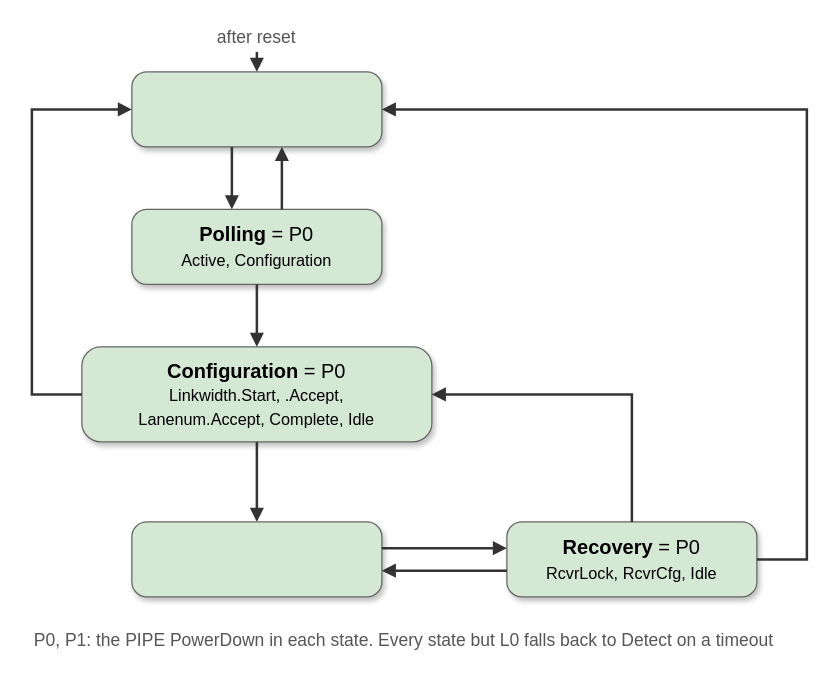
This 839x680 diagram has some shape labels left out. The centre of each missing label's shape, as x and y in pixels:
"Detect = P1 Quiet, Active" goes at (257,111).
"L0 = P0 TLPs and DLLPs flow" goes at (257,561).
